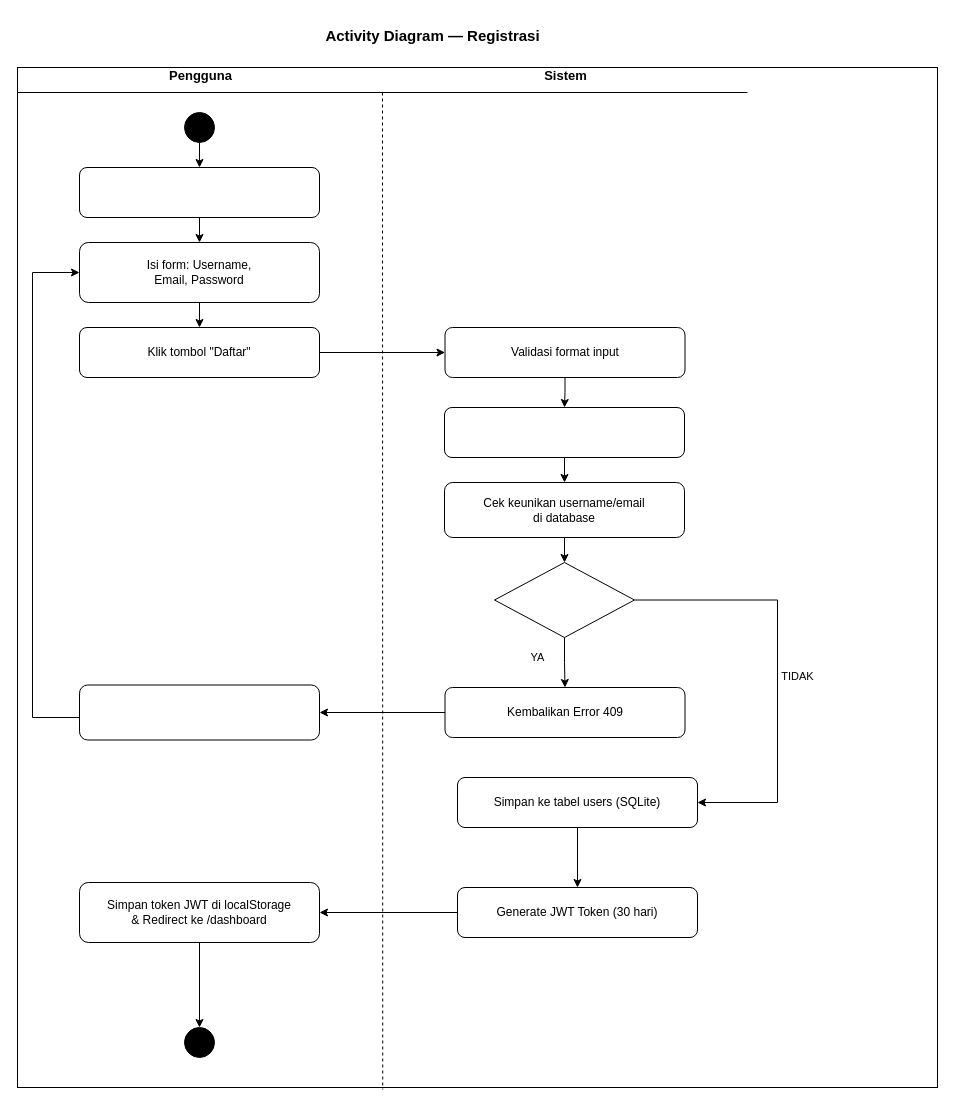
Some shapes in this 955 by 1108 pixel diagram are drawn without their labels. Each missing label, with the centre of its shape:
Buka halaman /register: (199,192)
Data sudah terdaftar?: (564,600)
Hash password dengan bcrypt: (564,432)
Tampil notifikasi: Akun sudah terdaftar: (199,712)
